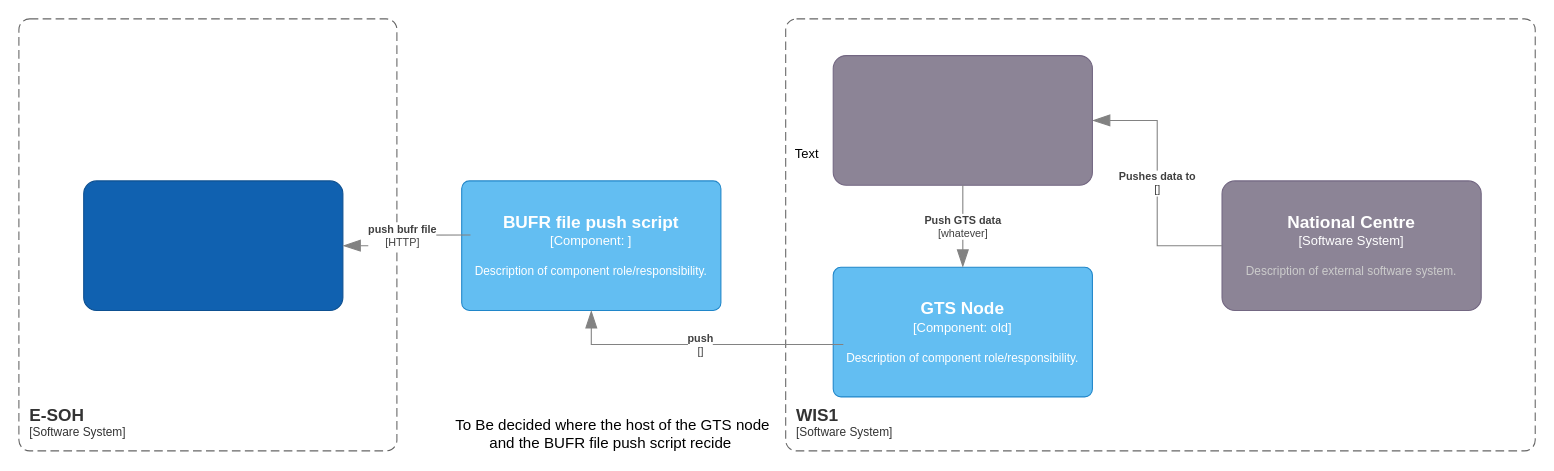
Image size: 1554x471. Some labels were removed from this diagram. Each missing label, with the centre of its shape:
"E-SOH [Software System] Description of software system." belongs at point (213, 245).
"GTS [Software System] Description of external software system." belongs at point (962, 120).
